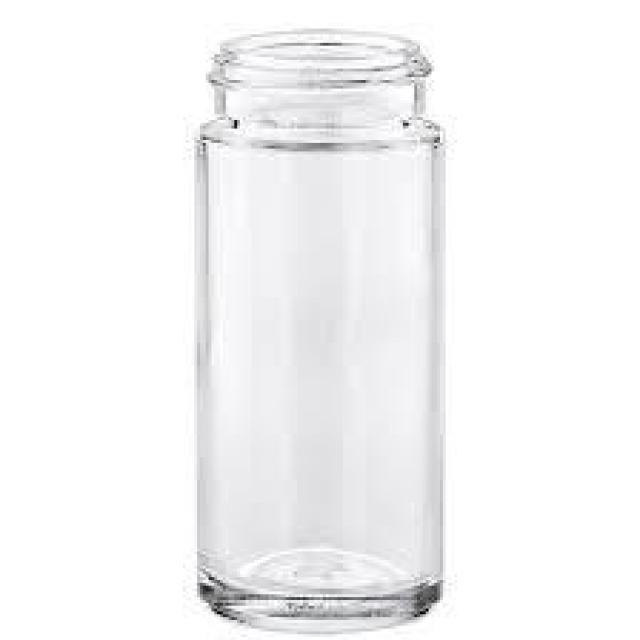Glass: (191, 26, 450, 636)
